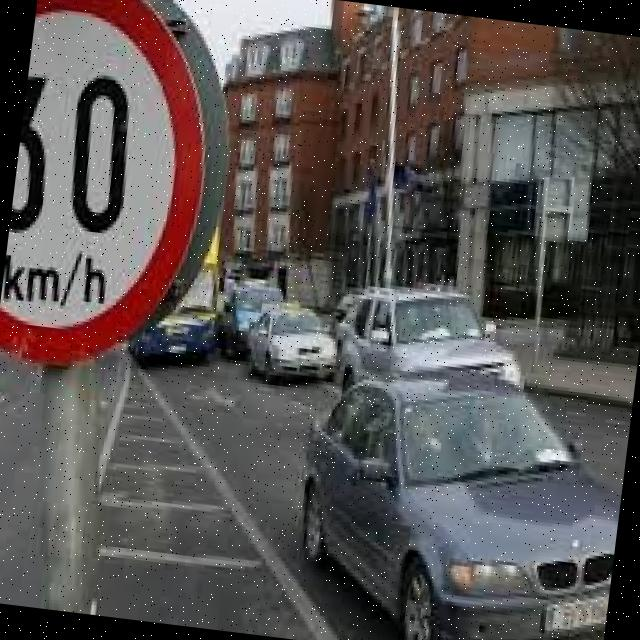speed_limit_30: (0, 0, 221, 385)
